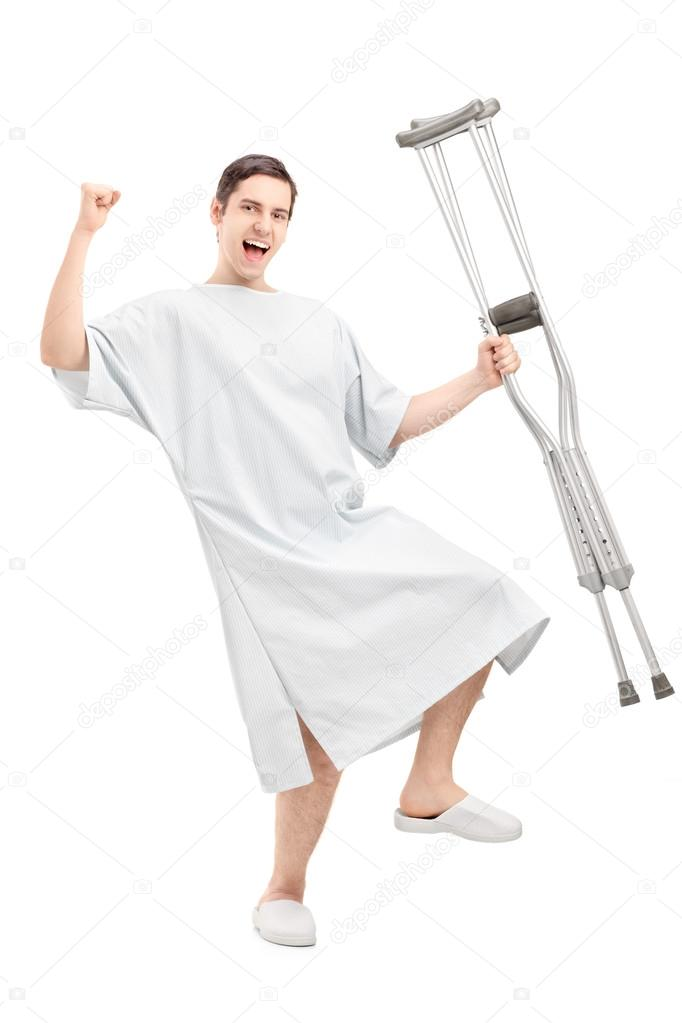crutches: (35, 91, 678, 949)
